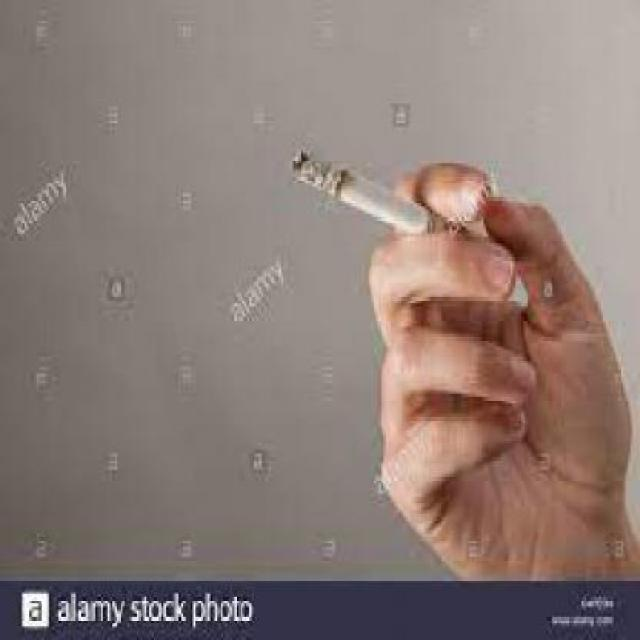smoke: (290, 137, 472, 246)
